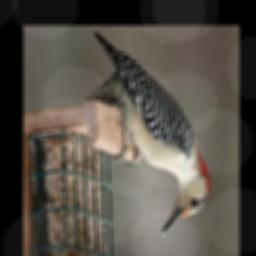Woodpecker: (84, 31, 211, 237)
